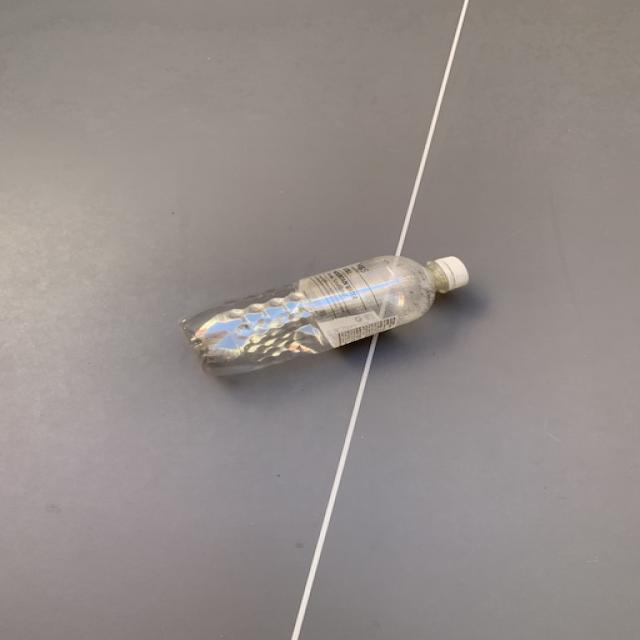Waste: (181, 257, 470, 376)
